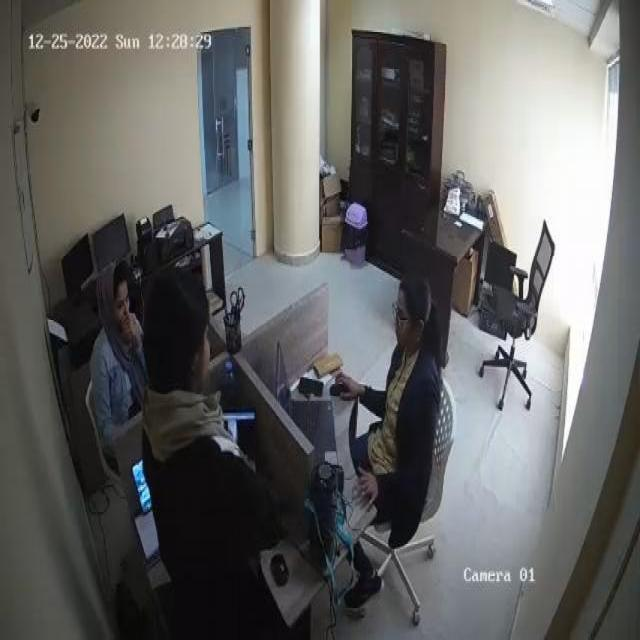bare_hand: (342, 456, 393, 519), (332, 362, 376, 409)
